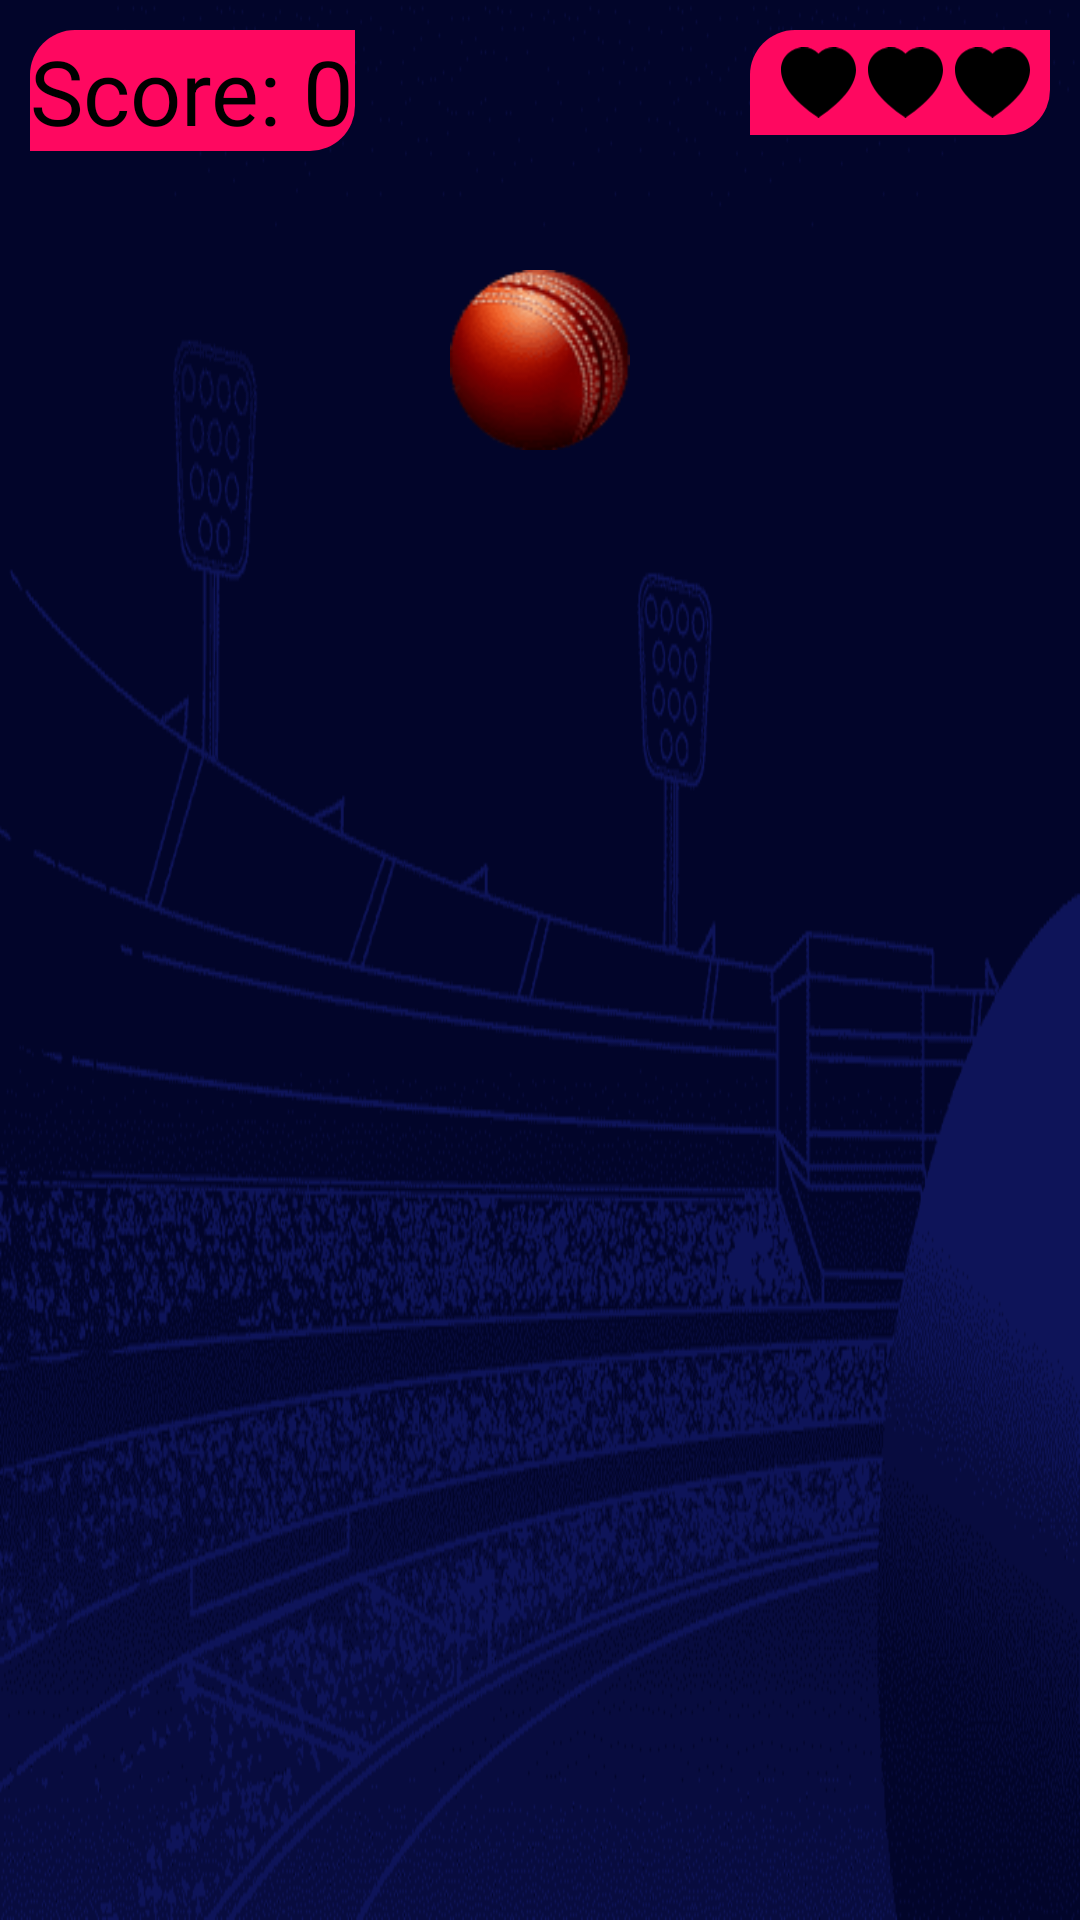

Icon bounding boxes for this 1080 x 1920 phone screenshot, format [x1, y1, x2, y2]:
Heart: [781, 47, 856, 118], [868, 47, 943, 118], [955, 47, 1030, 118]
